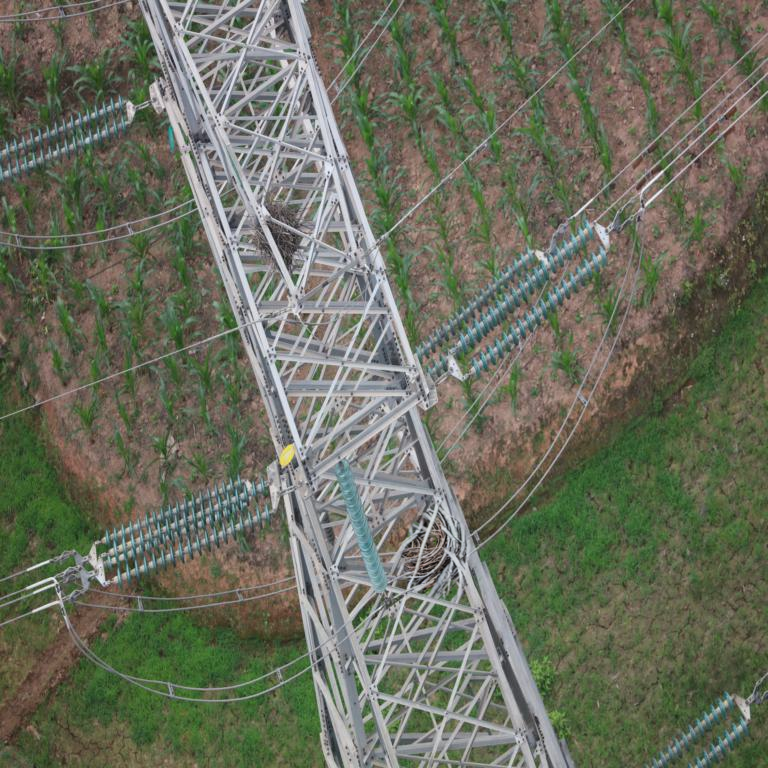nest: (251, 205, 301, 265), (406, 516, 451, 574)
